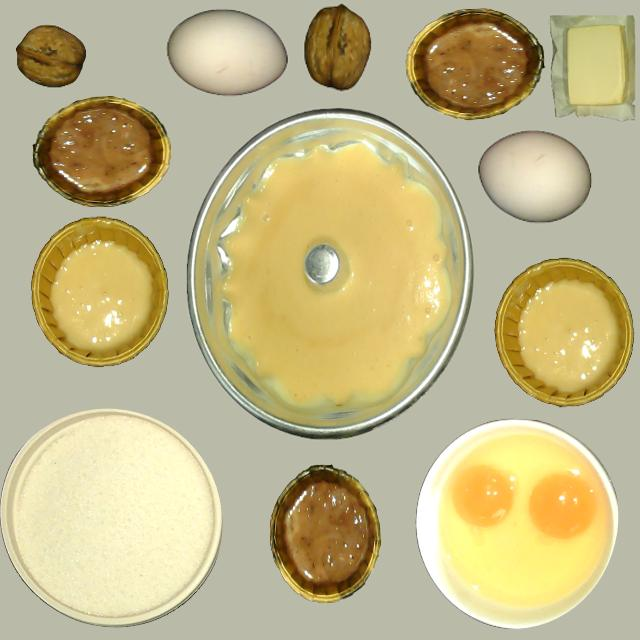Egg: (444, 455, 524, 538), (524, 472, 592, 538)
Sugar: (2, 408, 220, 626)
Walnut: (303, 4, 371, 90), (15, 25, 85, 88)
